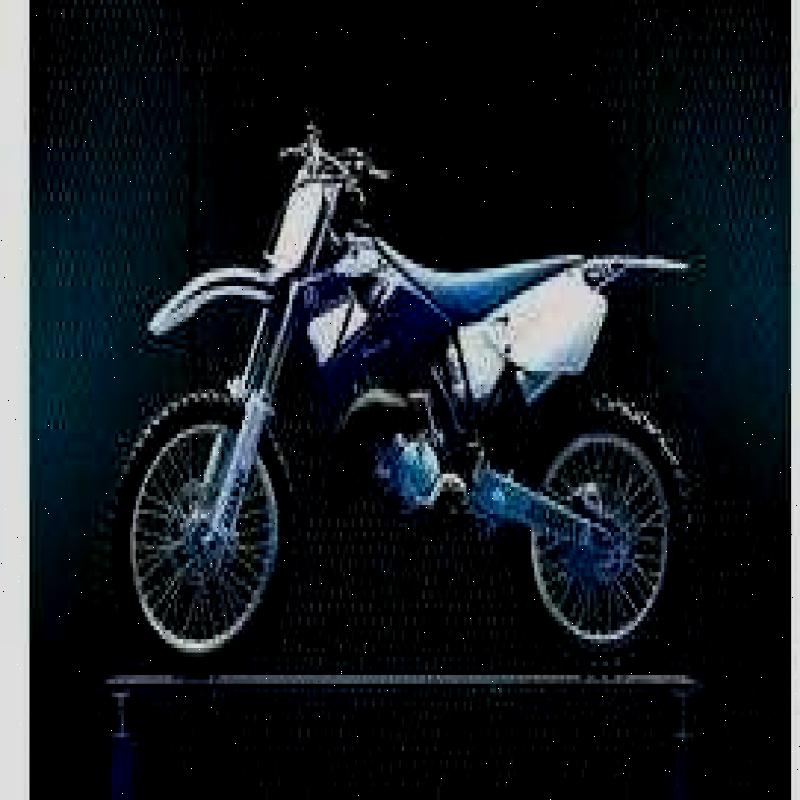bike: (122, 141, 701, 688)
